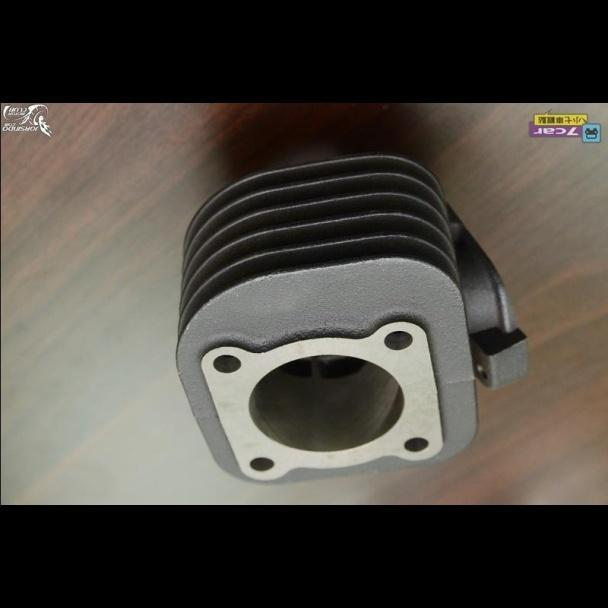hole: (208, 349, 243, 374), (381, 328, 417, 352), (403, 432, 430, 456), (248, 456, 276, 473)
